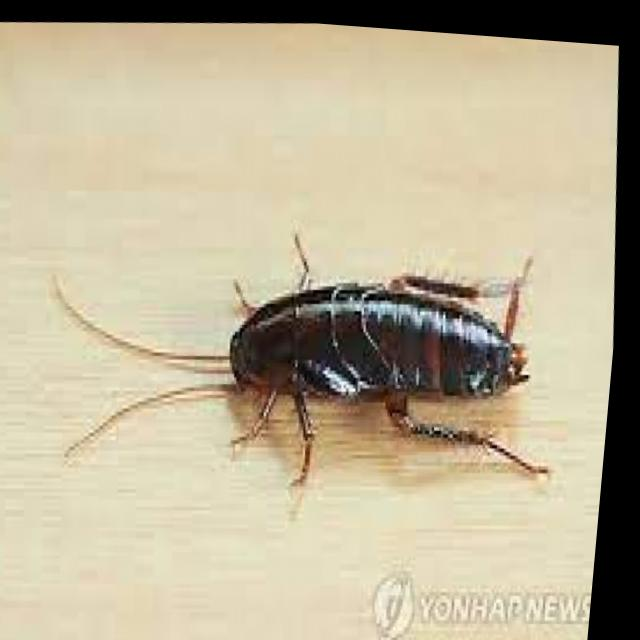Cockroach: (32, 179, 588, 529)
